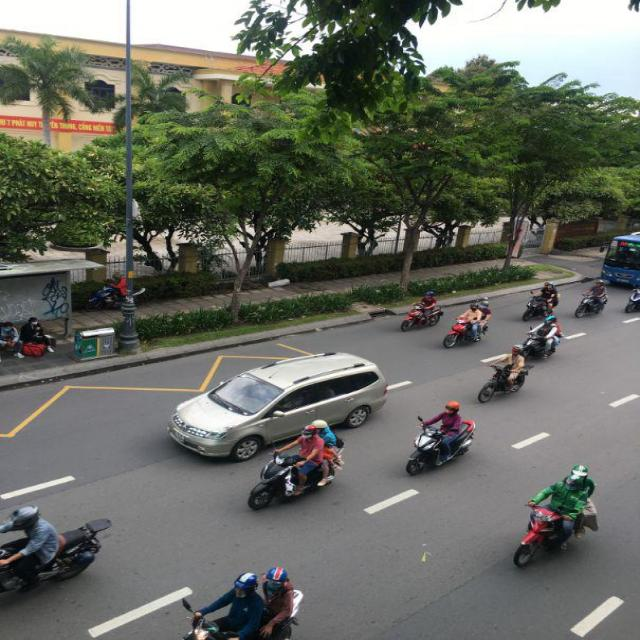bus: (600, 234, 640, 290)
car: (168, 353, 386, 463)
motorcycle: (0, 518, 109, 614), (246, 440, 340, 512), (515, 498, 594, 568), (407, 416, 475, 474), (480, 362, 528, 403), (446, 308, 490, 348), (520, 320, 562, 360), (404, 296, 444, 332), (86, 283, 129, 309), (576, 286, 610, 318), (625, 284, 639, 313)
